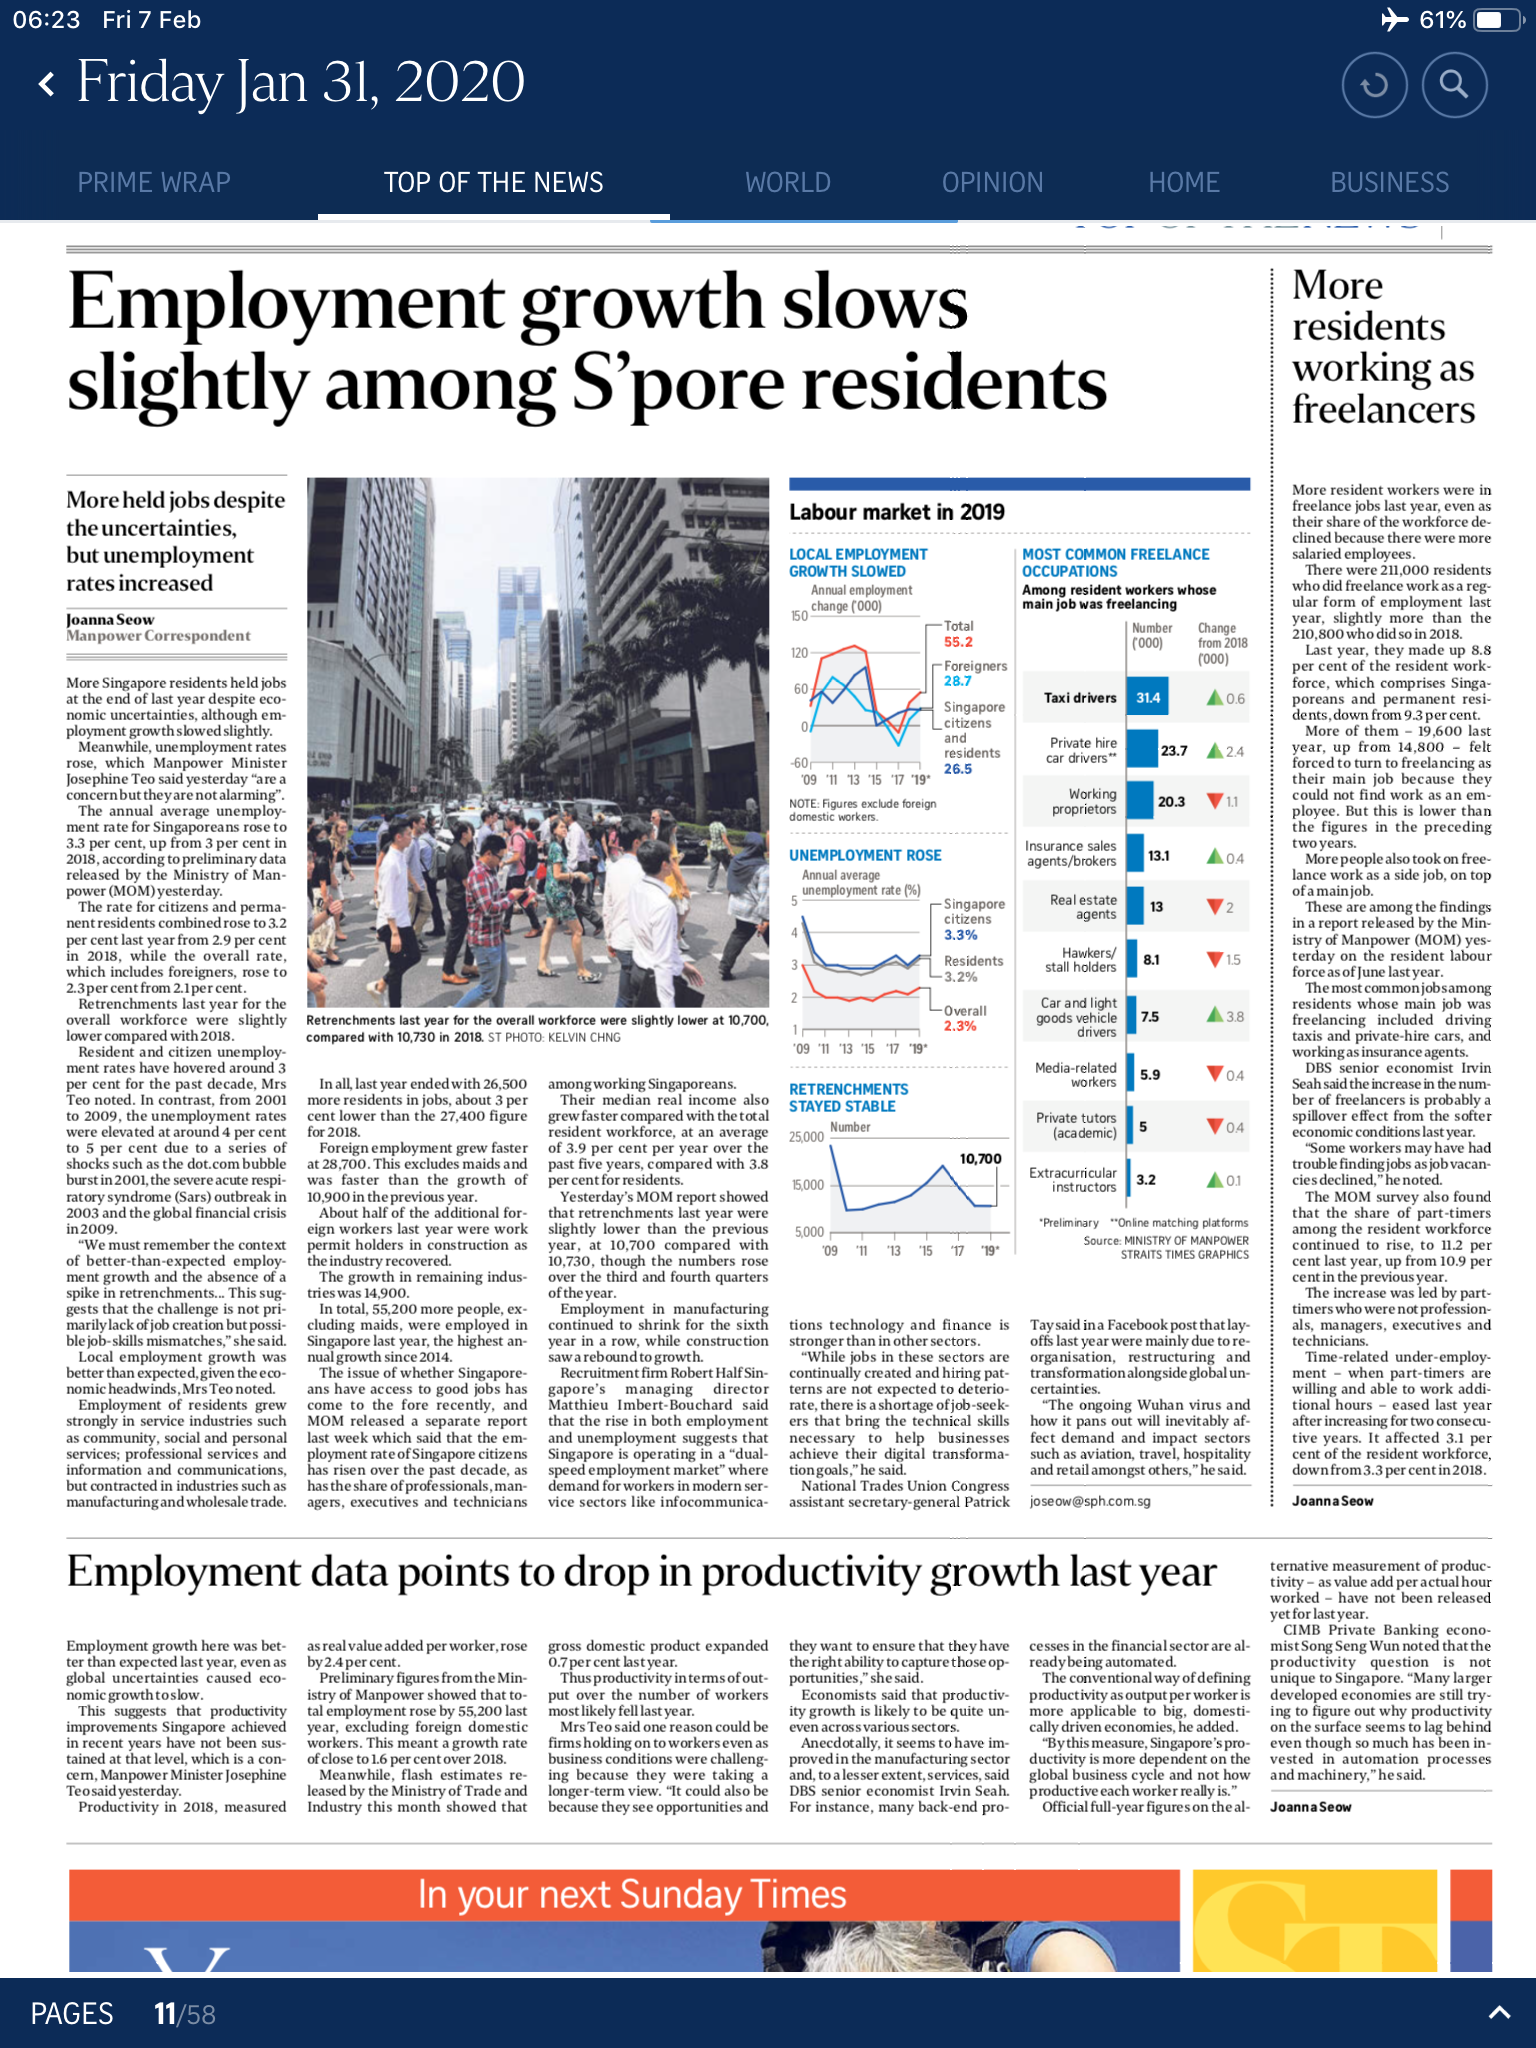Byline: (63, 613, 258, 647), (1289, 1492, 1383, 1513), (1271, 1801, 1359, 1817)
Headline: (69, 264, 1120, 427), (65, 1551, 1218, 1596), (1291, 269, 1476, 432)
Illustration: (303, 1013, 763, 1051), (1033, 1214, 1250, 1259)
Image: (791, 474, 1250, 1263), (307, 477, 768, 1008), (69, 1871, 1489, 1974)
Text: (1288, 479, 1496, 1477), (65, 672, 289, 1505), (542, 1076, 766, 1506), (307, 1077, 529, 1508), (1268, 1558, 1491, 1784), (61, 1627, 294, 1825), (787, 1314, 1018, 1513), (1026, 1314, 1257, 1513), (303, 1622, 534, 1821), (544, 1622, 774, 1821), (783, 1635, 1013, 1834), (1025, 1629, 1255, 1827)
